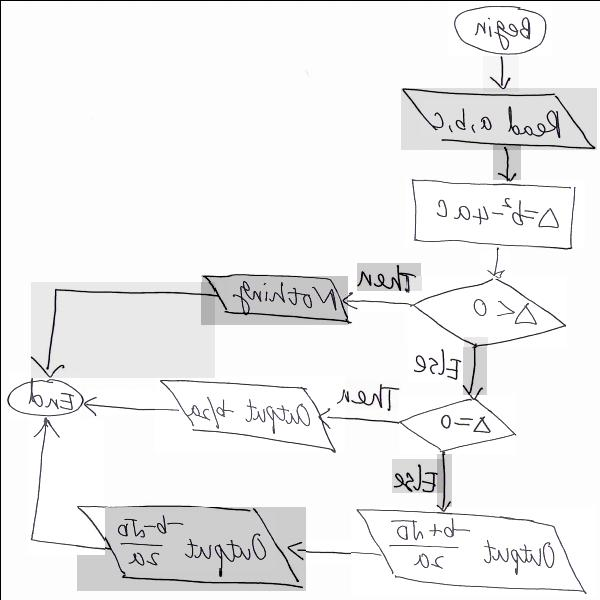arrow: (30, 281, 214, 377), (27, 418, 104, 554), (84, 389, 182, 414), (283, 540, 383, 564), (335, 290, 416, 310), (462, 336, 486, 401), (482, 54, 518, 92), (492, 145, 520, 188), (436, 452, 451, 518), (480, 249, 509, 278)
data: (350, 507, 594, 596), (76, 506, 304, 590), (154, 375, 343, 452), (400, 88, 595, 149)
decision: (406, 275, 564, 346), (398, 395, 513, 453)
process: (404, 179, 584, 246), (201, 276, 346, 324)
terminator: (447, 0, 552, 55), (9, 372, 80, 418)
text: (390, 512, 559, 575), (109, 513, 274, 571), (429, 191, 563, 232), (420, 99, 566, 136), (182, 393, 310, 428), (227, 275, 339, 311), (466, 6, 536, 50), (464, 295, 540, 329), (407, 344, 464, 381), (333, 379, 401, 409), (356, 262, 420, 290), (18, 379, 76, 409), (391, 458, 442, 492), (436, 410, 491, 432)
